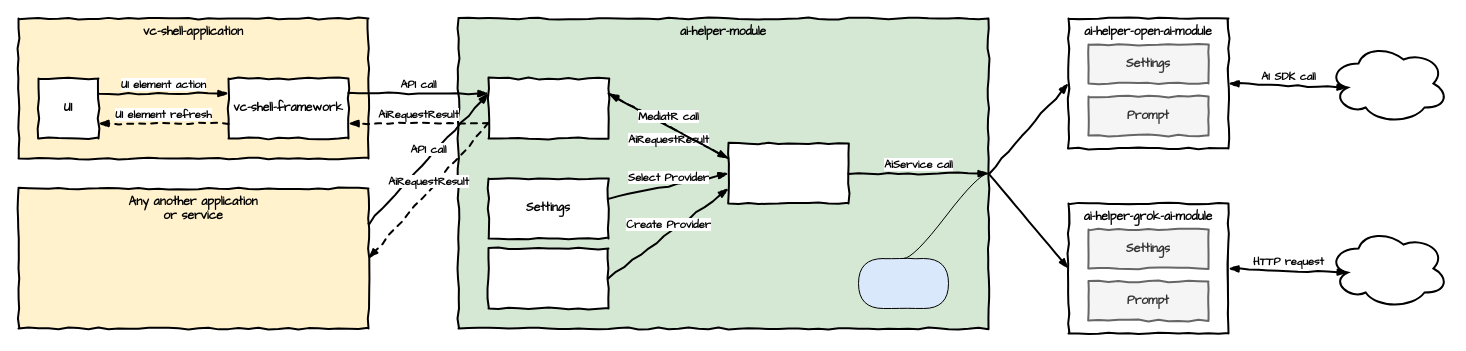
Image size: 1466x351. Some labels were removed from this diagram. Each missing label, with the centre of its shape:
"API Controller" goes at point (548, 108).
"Call to only selected Provider" goes at point (903, 283).
"Command Handler" goes at point (788, 173).
"GrokAI" goes at point (1388, 268).
"OpenAI" goes at point (1388, 83).
"Provider Factory" goes at point (548, 278).
